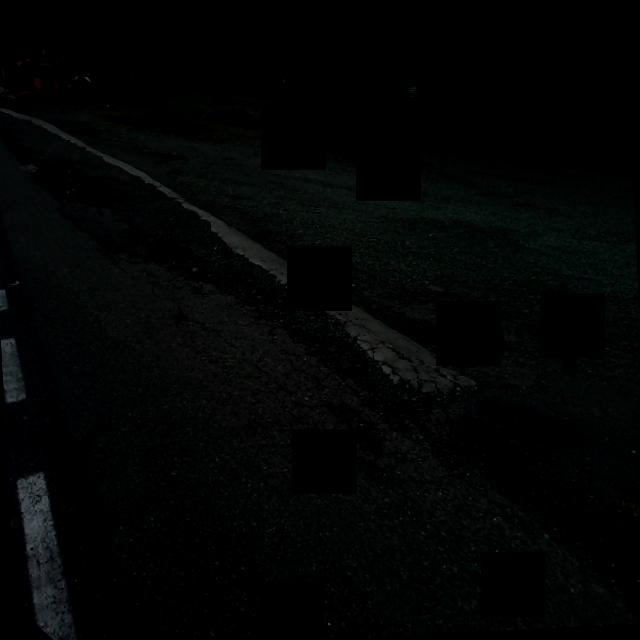DITCH: (0, 61, 640, 640), (0, 68, 640, 640)
